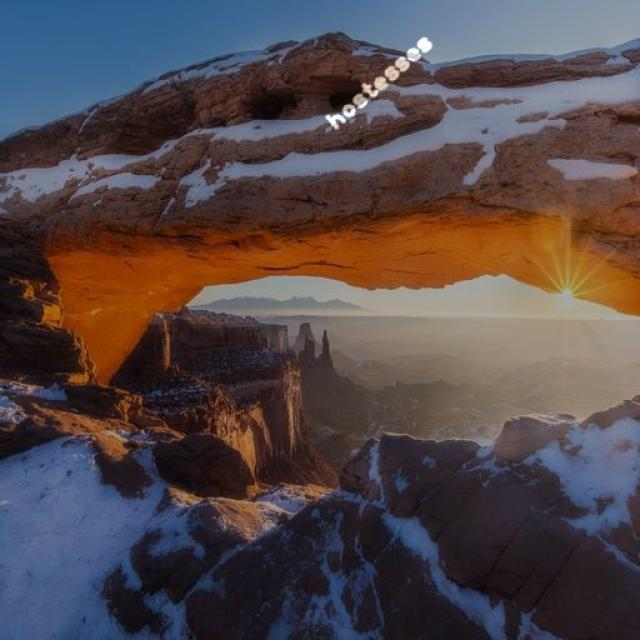watermark: (329, 27, 434, 133)
